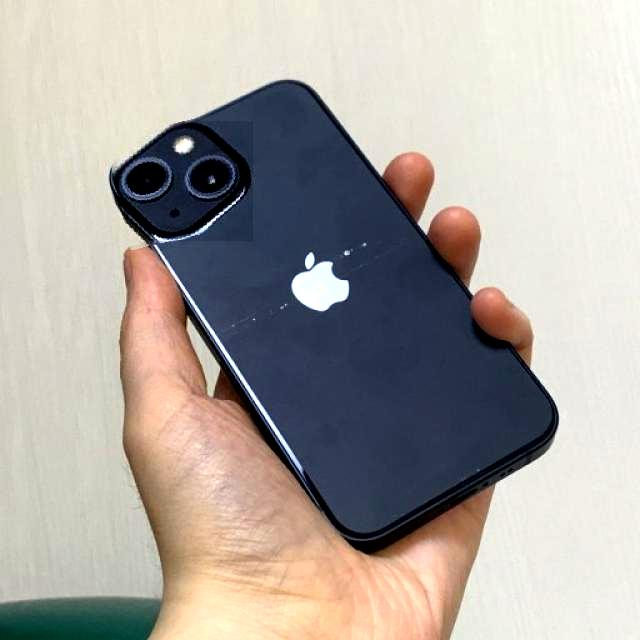lens_back: (187, 148, 240, 199), (117, 156, 173, 200)
phone: (104, 77, 564, 538)
